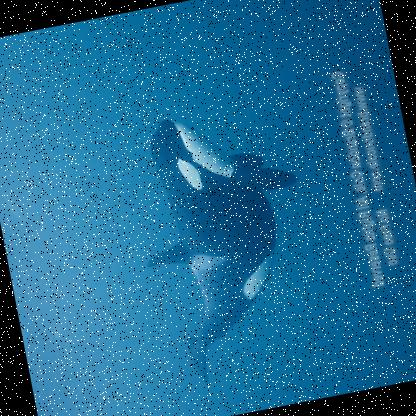killer_whale: (132, 101, 347, 388)
